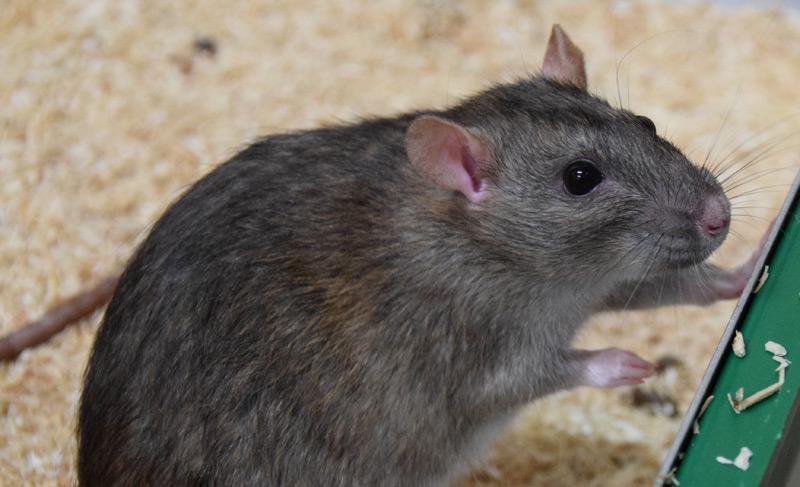rat: (142, 18, 753, 400)
